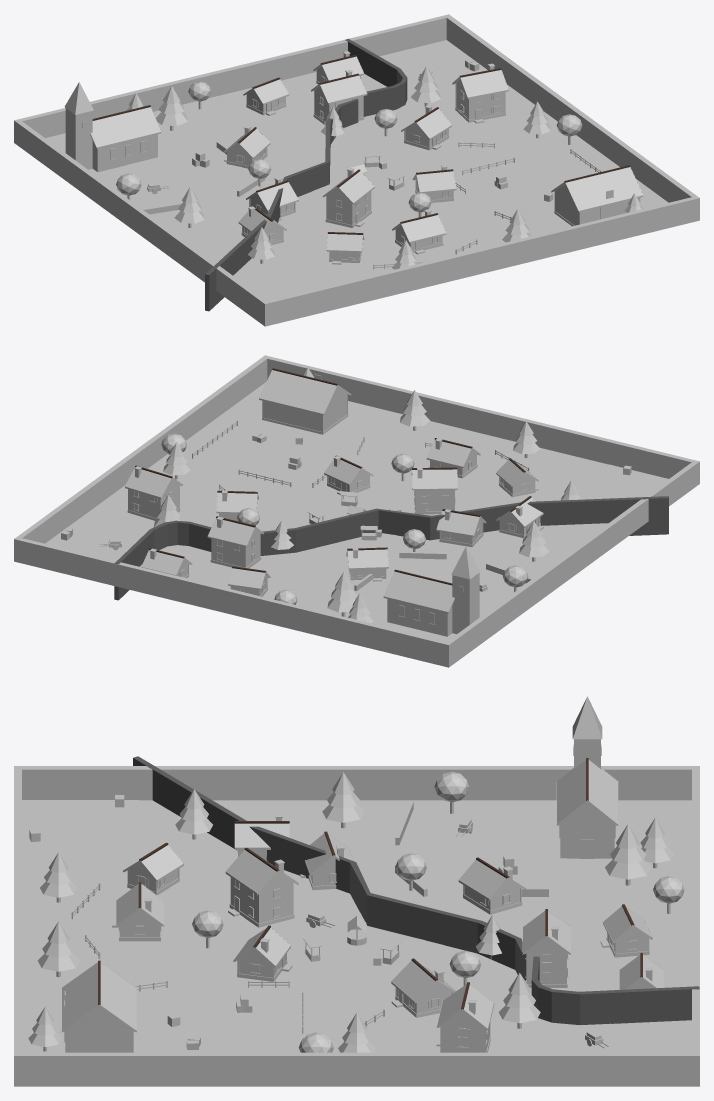
The picture shows the model from 3 angles, top to bottom: view 1: azimuth 30°, elevation 25°; view 2: azimuth 150°, elevation 25°; view 3: azimuth 270°, elevation 25°; orthographic projection. The views are drawn at different scales.
Visible parts, largest first — view 1: Wall_Stone, Ground_Grass, Tree_Leaves, Ground_Dirt, Cube.001, Site_Tiles, Roof_Brown, Roof_Red, House_Trim, Roof_Slate, House_Timber, TSpawn_Tiles (+11 smaller); view 2: Wall_Stone, Ground_Grass, Cube.001, Ground_Dirt, Tree_Leaves, Roof_Brown, Site_Tiles, Roof_Red, Roof_Slate, House_Trim, House_Timber, Barn_Red (+9 smaller); view 3: Ground_Grass, Wall_Stone, Cube.001, Tree_Leaves, Ground_Dirt, Site_Tiles, Roof_Brown, Roof_Red, House_Trim, Roof_Slate, Ground_Cobble, House_Timber (+13 smaller).
Boxes of the visible parts, <box> form: Wall_Stone: <box>14,14,699,326</box>; Ground_Grass: <box>45,72,668,287</box>; Tree_Leaves: <box>116,66,642,269</box>; Ground_Dirt: <box>159,73,585,289</box>; Cube.001: <box>205,38,407,311</box>; Site_Tiles: <box>115,153,596,215</box>; Roof_Brown: <box>315,56,642,250</box>; Roof_Red: <box>224,70,508,242</box>; House_Trim: <box>90,56,643,260</box>; Roof_Slate: <box>64,79,298,210</box>; House_Timber: <box>314,86,442,250</box>; TSpawn_Tiles: <box>379,40,487,77</box>; Wall_Stone: <box>14,355,699,667</box>; Ground_Grass: <box>67,382,609,641</box>; Cube.001: <box>114,496,668,600</box>; Ground_Dirt: <box>105,415,608,615</box>; Tree_Leaves: <box>154,367,581,623</box>; Roof_Brown: <box>141,370,536,574</box>; Site_Tiles: <box>220,428,500,606</box>; Roof_Red: <box>125,440,542,568</box>; Roof_Slate: <box>228,511,484,612</box>; House_Trim: <box>125,370,543,624</box>; House_Timber: <box>211,450,476,567</box>; Barn_Red: <box>263,387,347,431</box>; Ground_Grass: <box>22,800,691,1052</box>; Wall_Stone: <box>14,739,699,1086</box>; Cube.001: <box>133,756,699,1025</box>; Tree_Leaves: <box>28,771,684,1052</box>; Ground_Dirt: <box>37,819,654,1049</box>; Site_Tiles: <box>137,821,566,1052</box>; Roof_Brown: <box>62,845,663,1031</box>; Roof_Red: <box>116,823,570,1029</box>; House_Trim: <box>61,768,663,1052</box>; Roof_Slate: <box>305,696,652,942</box>; Ground_Cobble: <box>290,912,425,975</box>; House_Timber: <box>119,873,566,983</box>.
Size of the model in its own units: 105 by 22.04 by 101.
